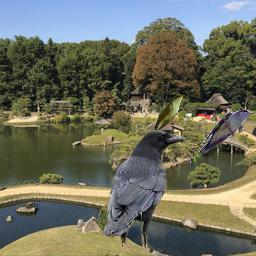Crow: (101, 130, 187, 251)
Cuckoo: (190, 109, 256, 166), (147, 94, 185, 141)
